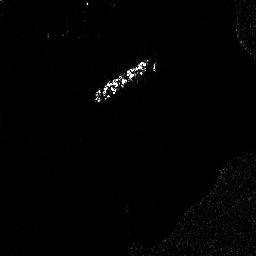ship: (94, 58, 149, 102)
